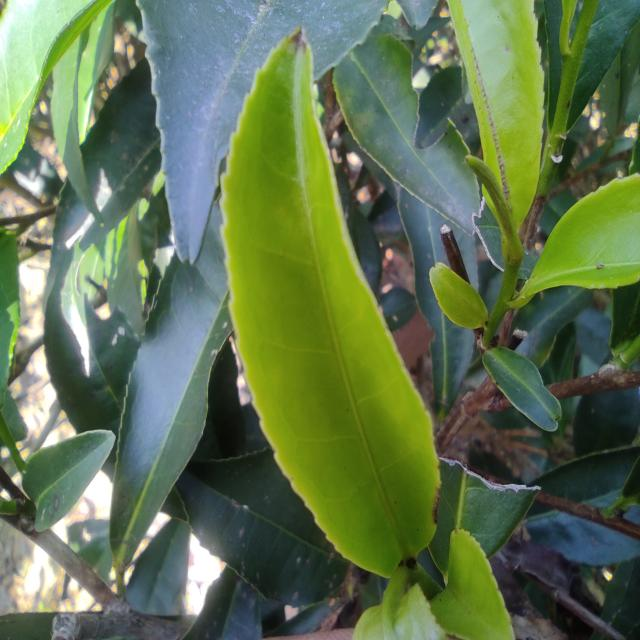Category C(4-7 days): (207, 19, 449, 593)
